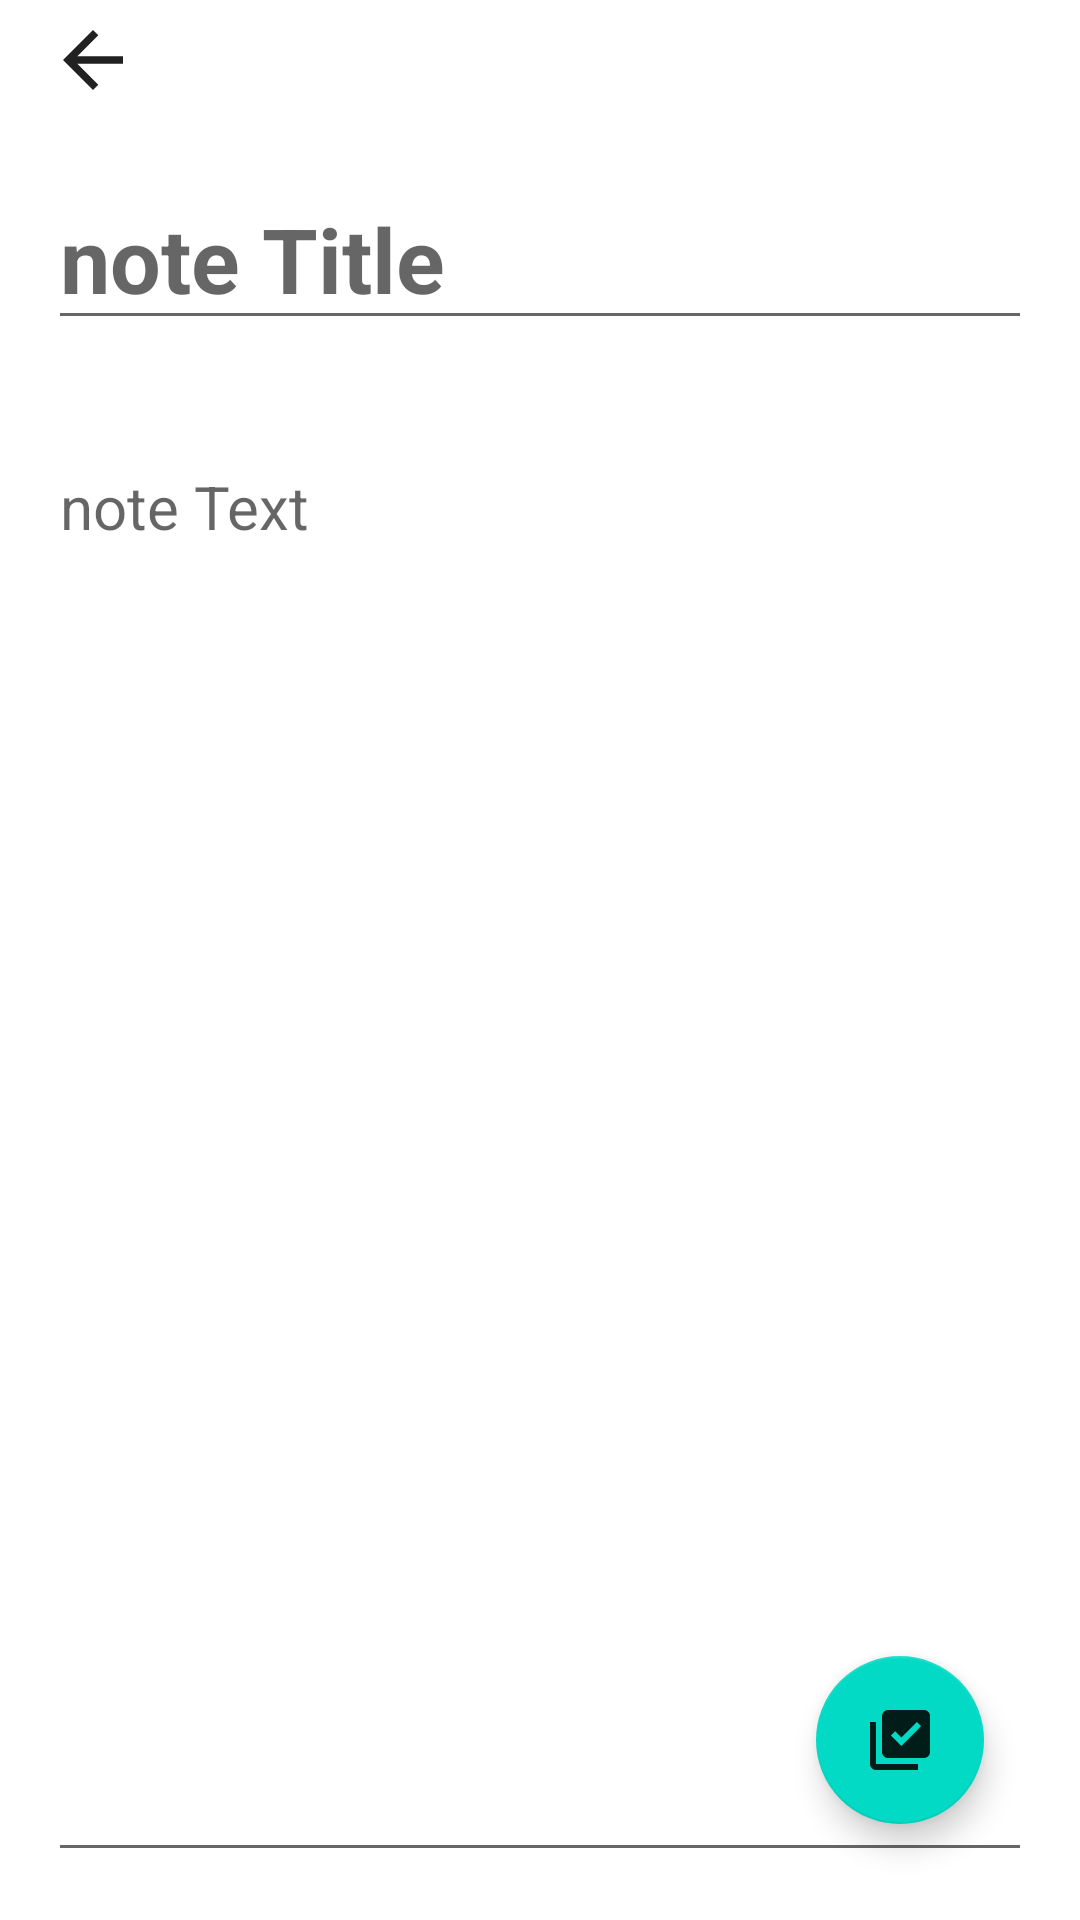

Icon click points for this 1080x1920 phone screenshot, format [x,y]:
arrow back: [93,60]
